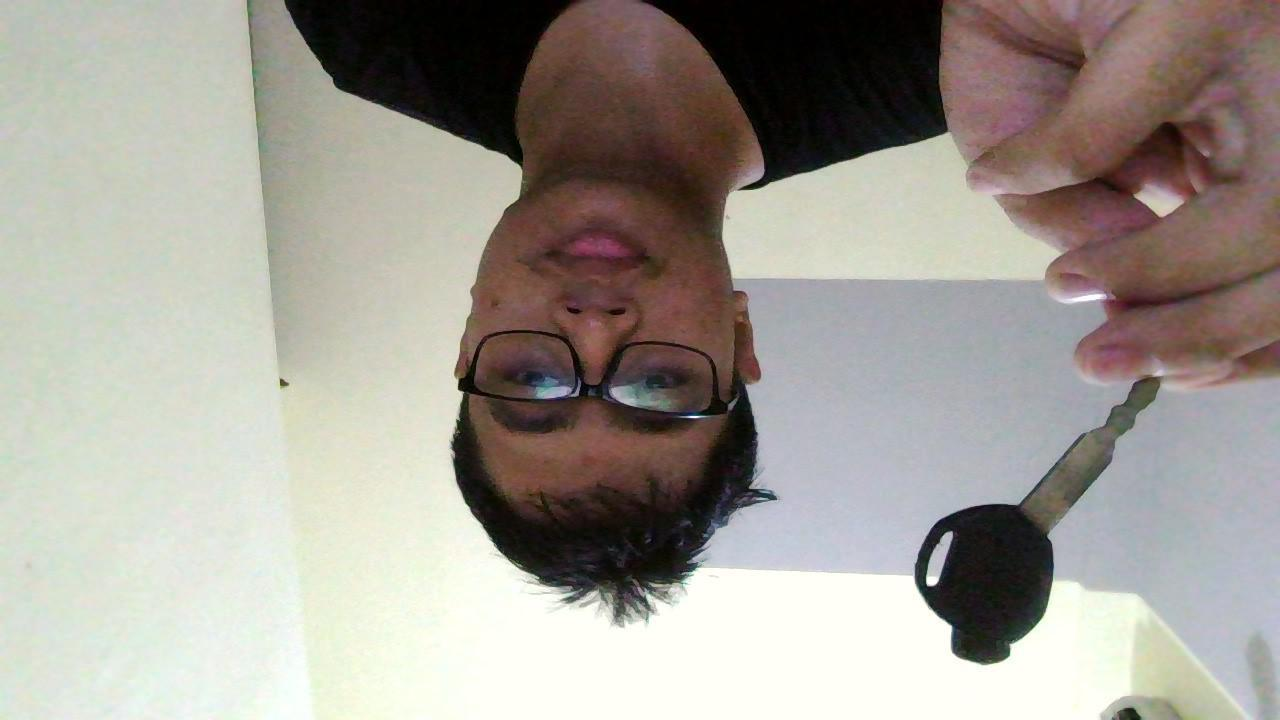keys: (908, 364, 1172, 682)
